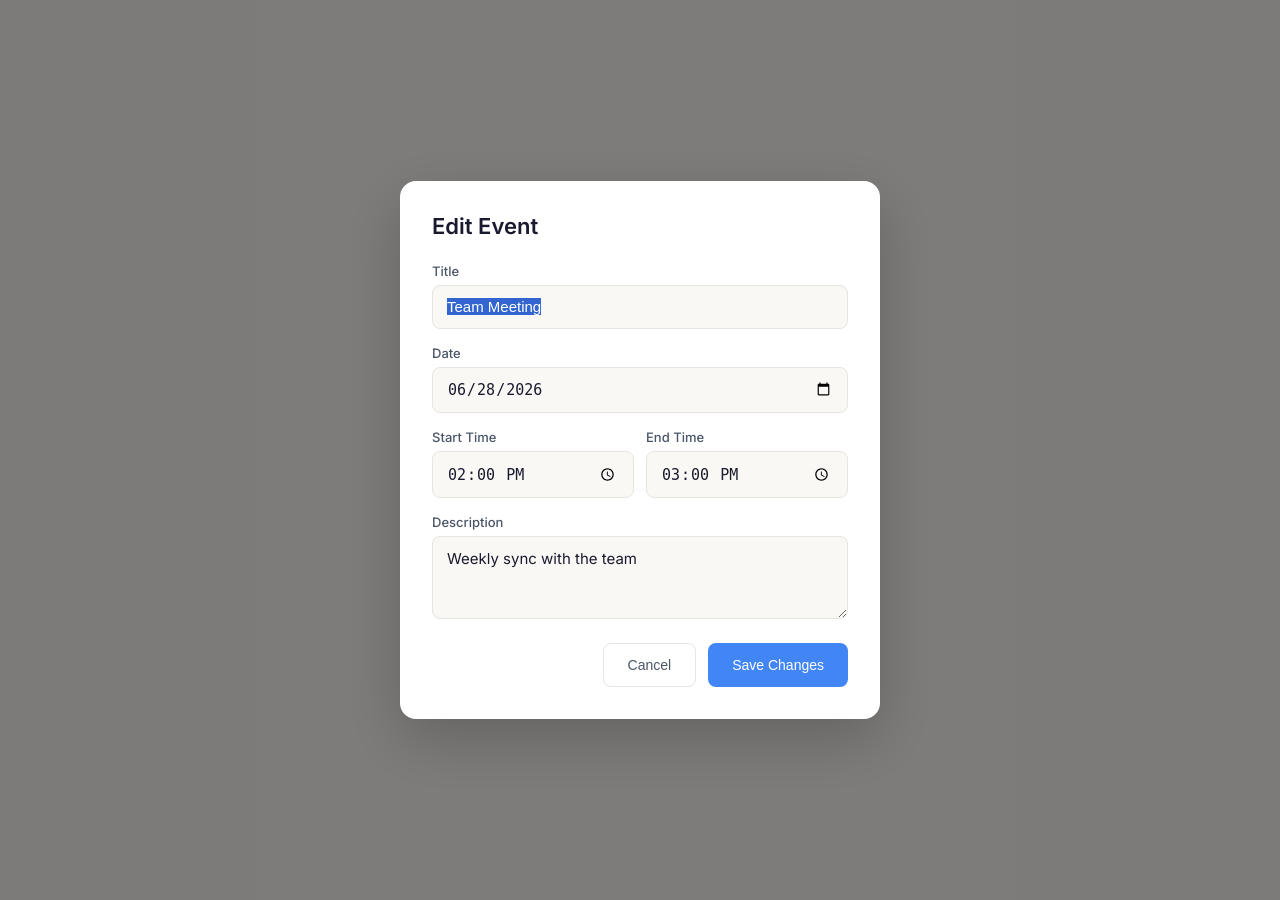
Test case: EditEventDialog › auto-sets end time to 30 minutes after start when start time changes
Replace the text in the time field showing ":" with "10:00" at (533, 474), box [432,451,634,498]
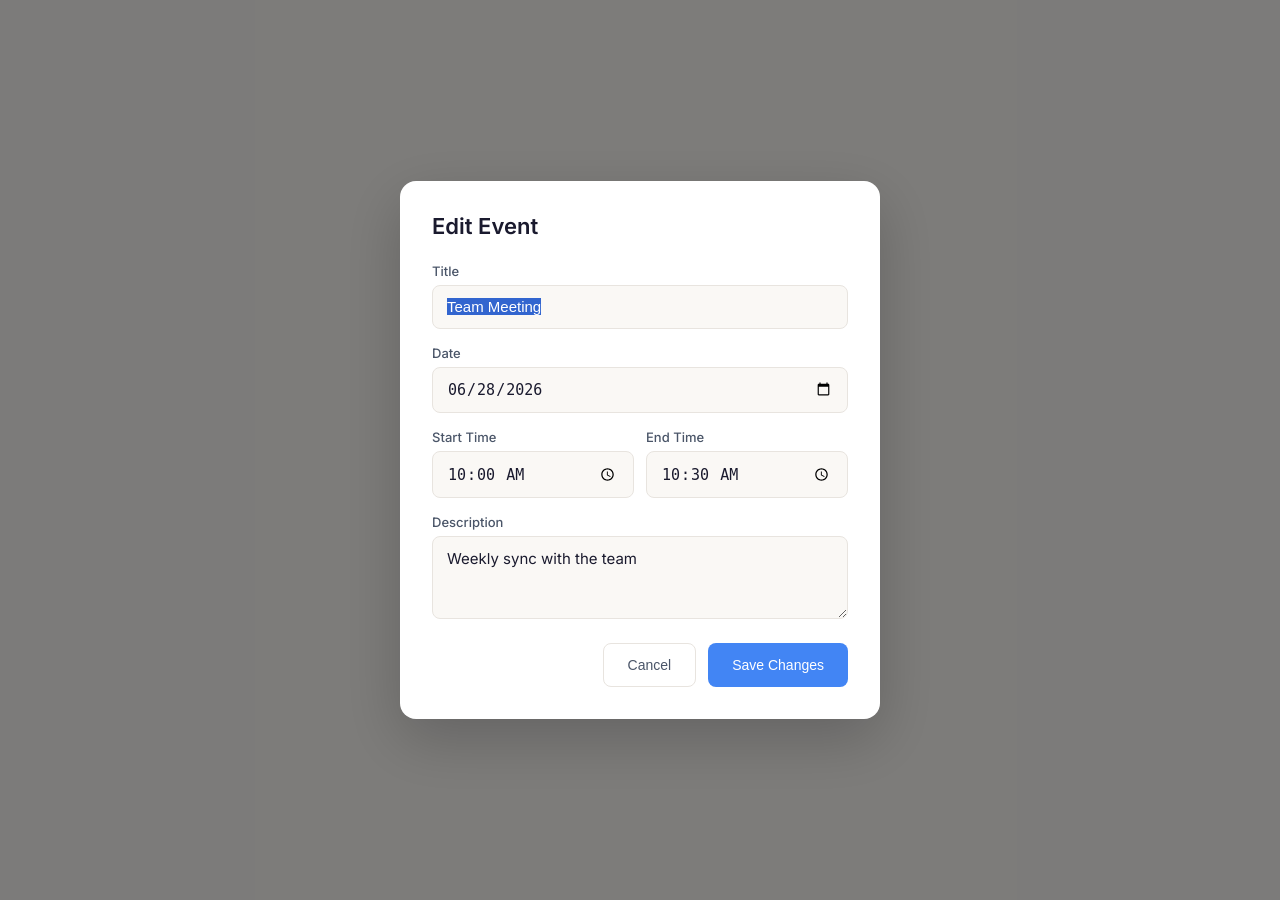
Expected: the time field showing "10:30" is shown, [646,451,848,498]
